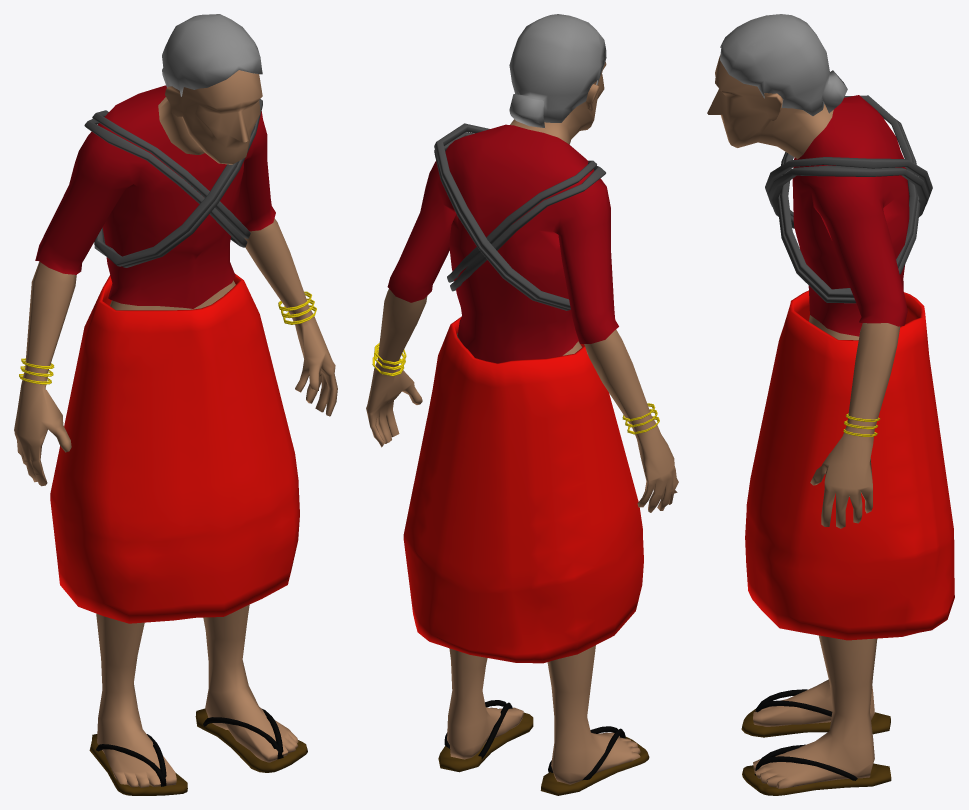
Rendered from Apo Ugay.glb.
3 renders of one model, left to right at view 1: azimuth 30°, elevation 25°; view 2: azimuth 150°, elevation 25°; view 3: azimuth 270°, elevation 25°, orthographic. The views are drawn at different scales.
Parts seen in each view (by area): view 1: sweep15.014; view 2: sweep15.014; view 3: sweep15.014.
Part boxes in pixels (x1,y1,x2,y2): sweep15.014: (14,14,337,795); sweep15.014: (366,14,678,795); sweep15.014: (707,14,954,795).
Bounding box in the file's own units: 1.11 × 2.57 × 0.7847.
